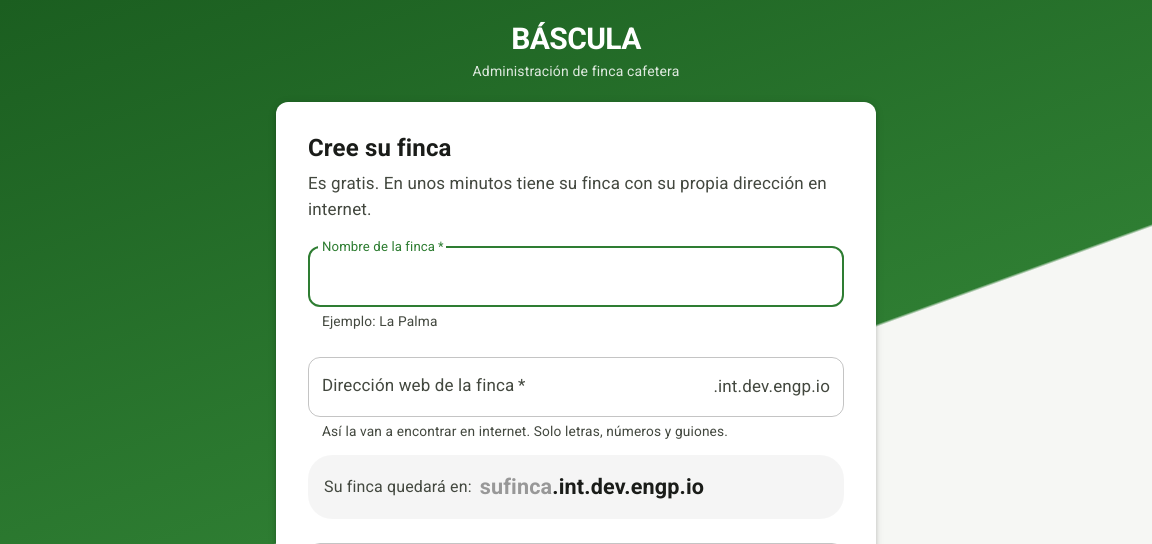
Test case: Cree su finca — the farm's web address › keeps what the owner types inside the rule and explains a bad address
This screenshot has width=1152, height=544.
In the field labelled "Dirección web de la finca *": (507, 387) [308, 356, 705, 417], type "Finca José"
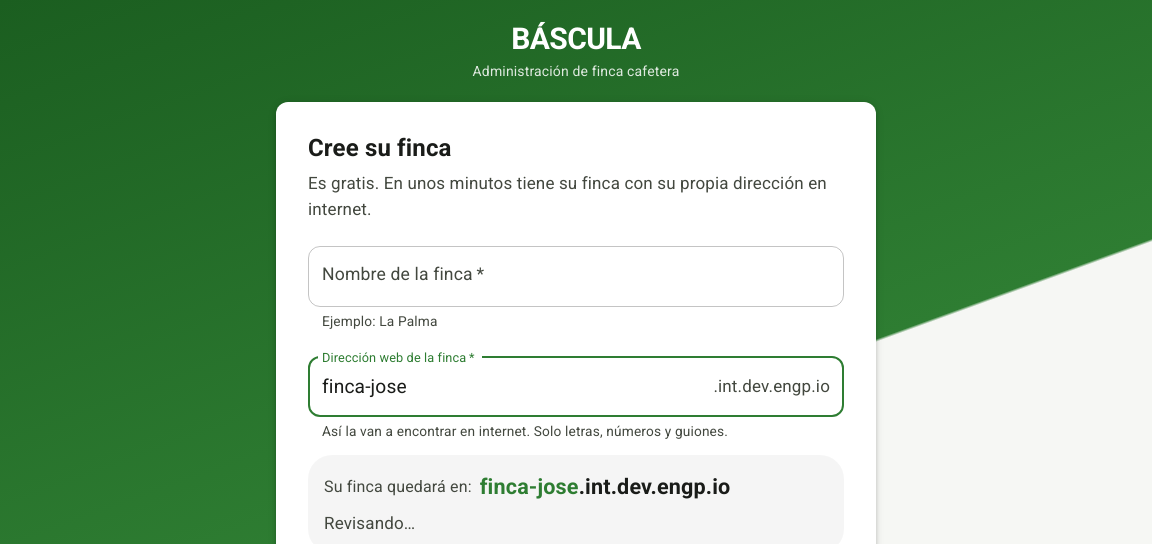
Check: the field labelled "Dirección web de la finca *" holds "finca-jose"
Replace the text in the field labelled "Dirección web de la finca *" with "admin": (507, 387) [308, 356, 705, 417]
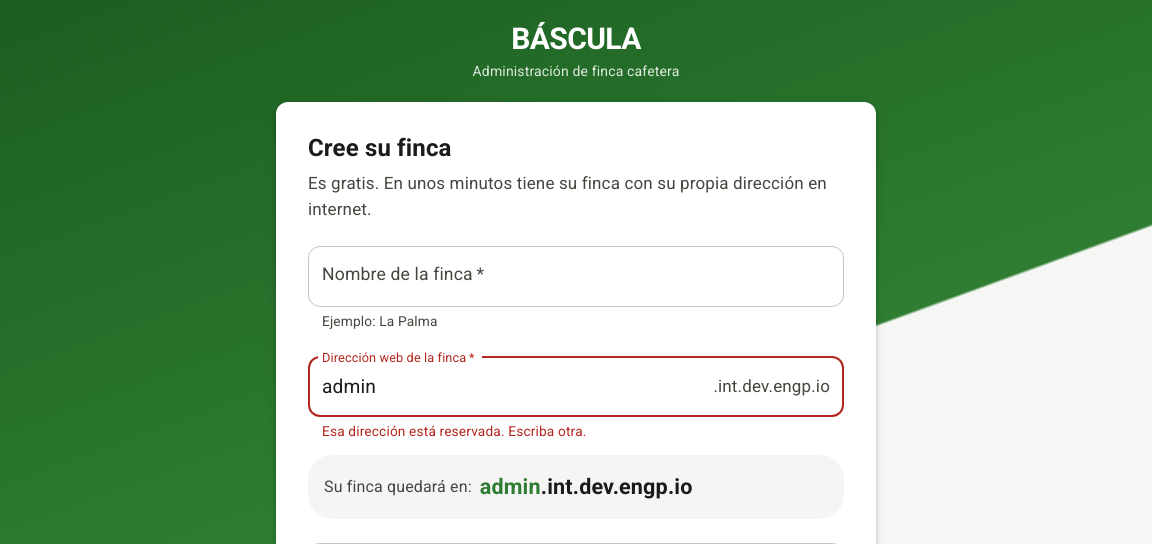
Check: the text "Esa dirección está reservada. Escriba otra." is shown, box [322, 423, 586, 439]
